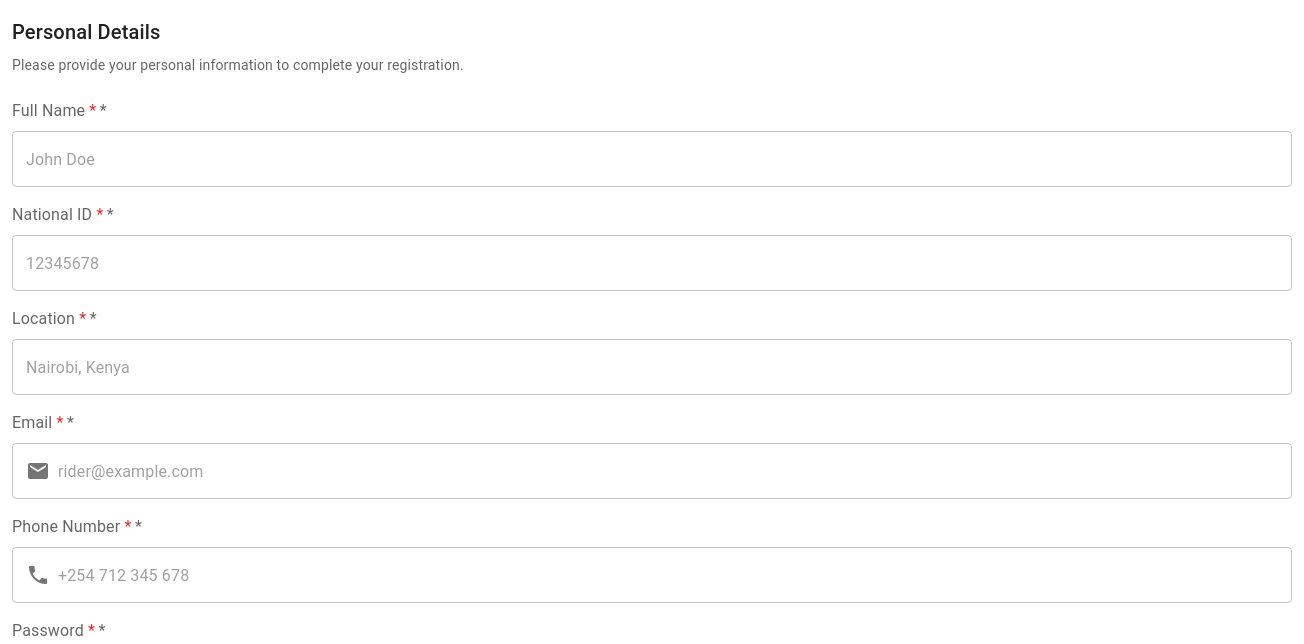
Scenario: PersonalDetailsStep › Required fields validation › should show validation error when fullName is empty and touched
This screenshot has width=1304, height=644.
Touch the field by clicking and then losing focus
Click the field named "Full Name" at coordinates (652, 159), box x1=12 y1=131 x2=1292 y2=187
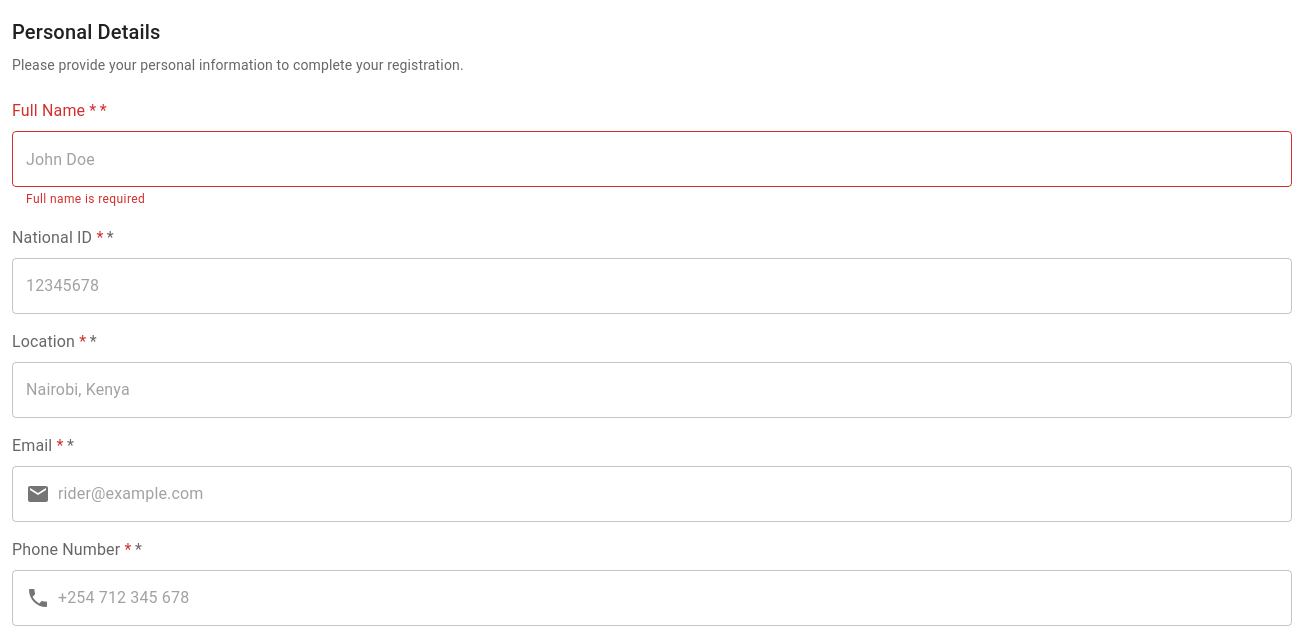
Result: the text "Full name is required" is shown at x1=26 y1=192 x2=145 y2=206
